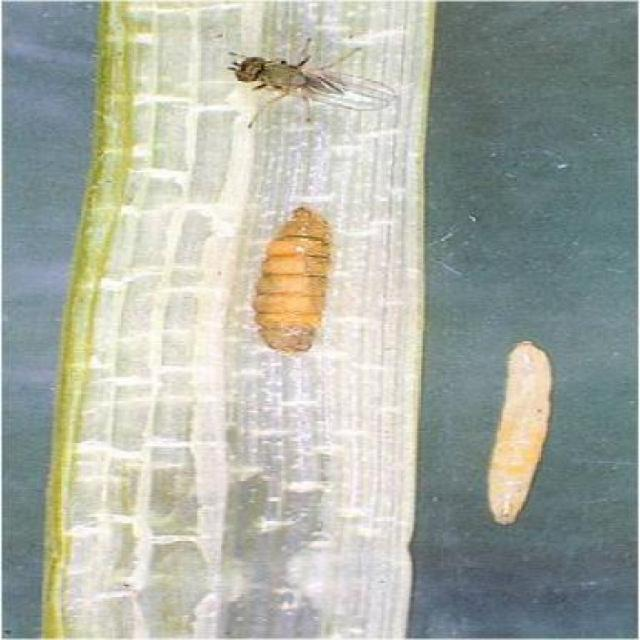whorl-maggot: (464, 331, 594, 543), (237, 197, 345, 365)
